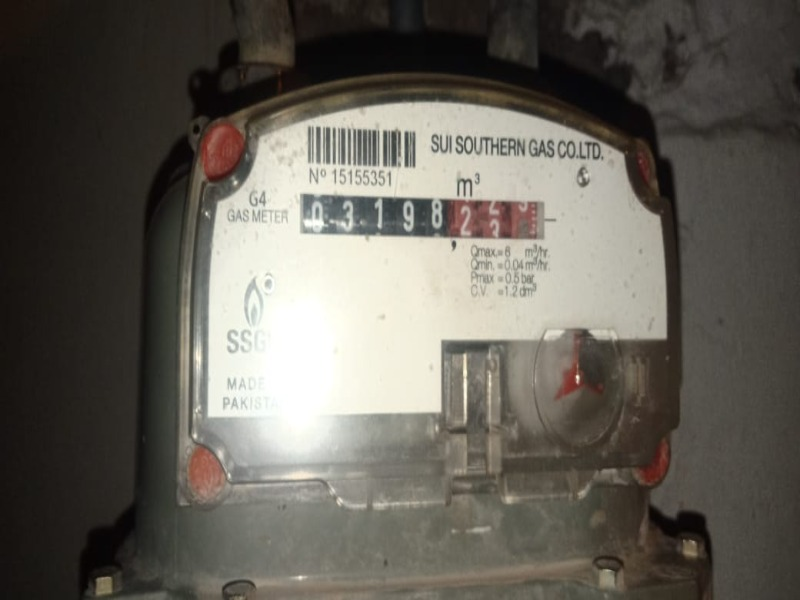ssgc: (296, 189, 546, 241)
